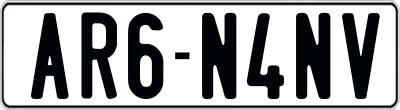4: (244, 10, 287, 102)
6: (127, 11, 166, 102)
A: (30, 12, 74, 103)
N: (295, 12, 334, 101), (202, 13, 236, 103)
R: (81, 12, 117, 104)
V: (341, 13, 384, 105)
